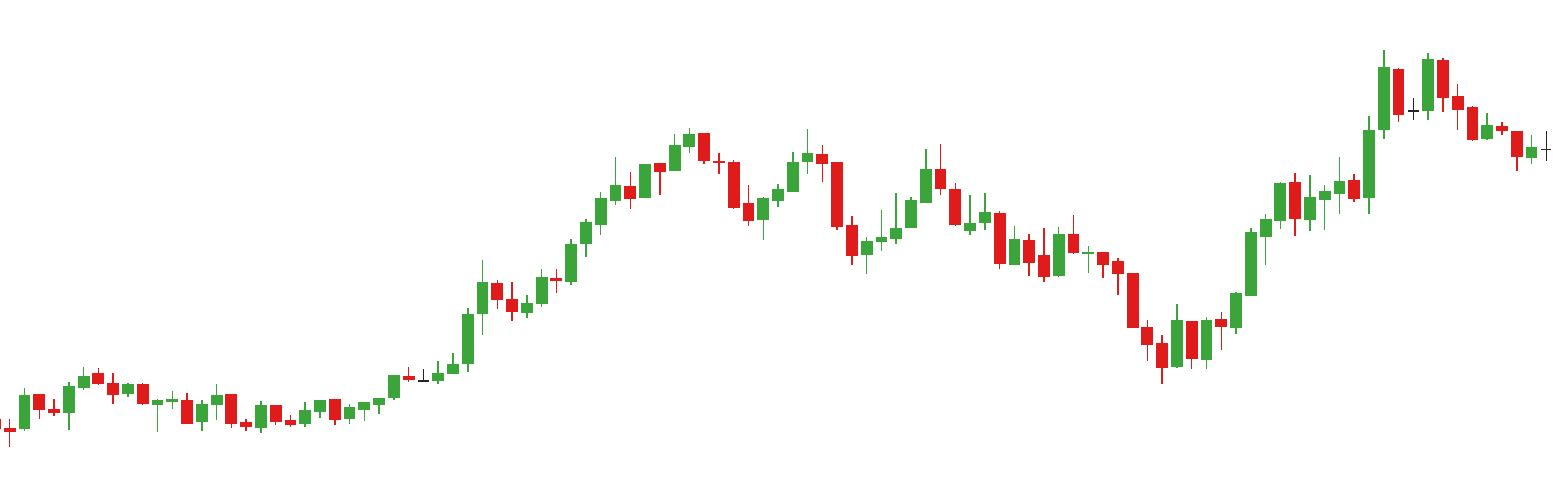sell: (814, 144, 947, 220)
